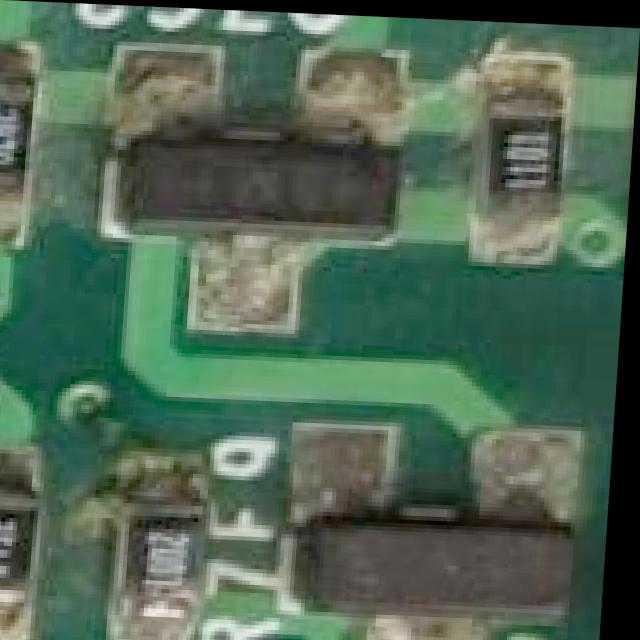resistor: (475, 81, 573, 232), (122, 489, 215, 640), (0, 468, 51, 631), (0, 76, 40, 234)
transistor: (94, 74, 424, 283), (281, 457, 609, 640)
